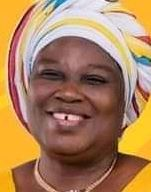without_facemask: (30, 90, 110, 163)
